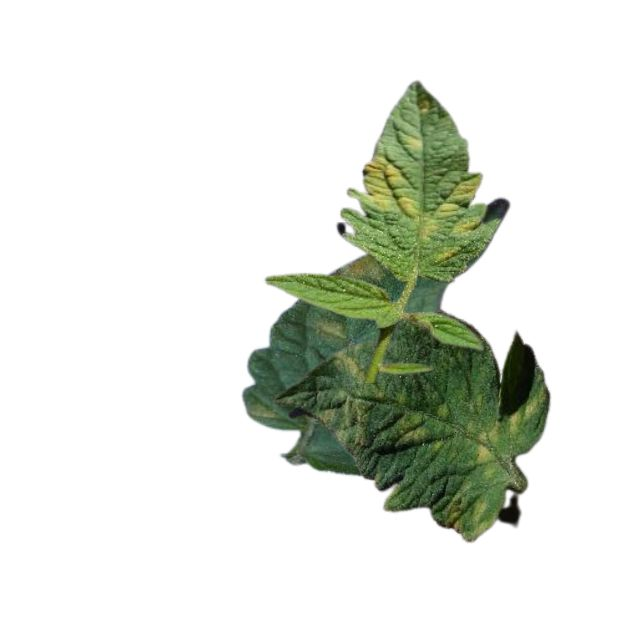Leaf_Mold: (420, 174, 486, 242), (361, 154, 416, 218), (441, 484, 494, 542), (311, 399, 371, 449), (334, 251, 389, 285), (472, 423, 506, 462), (394, 411, 430, 446), (332, 352, 367, 384), (312, 315, 351, 343), (245, 403, 277, 424), (404, 130, 425, 154), (434, 246, 457, 266), (508, 407, 524, 434)
